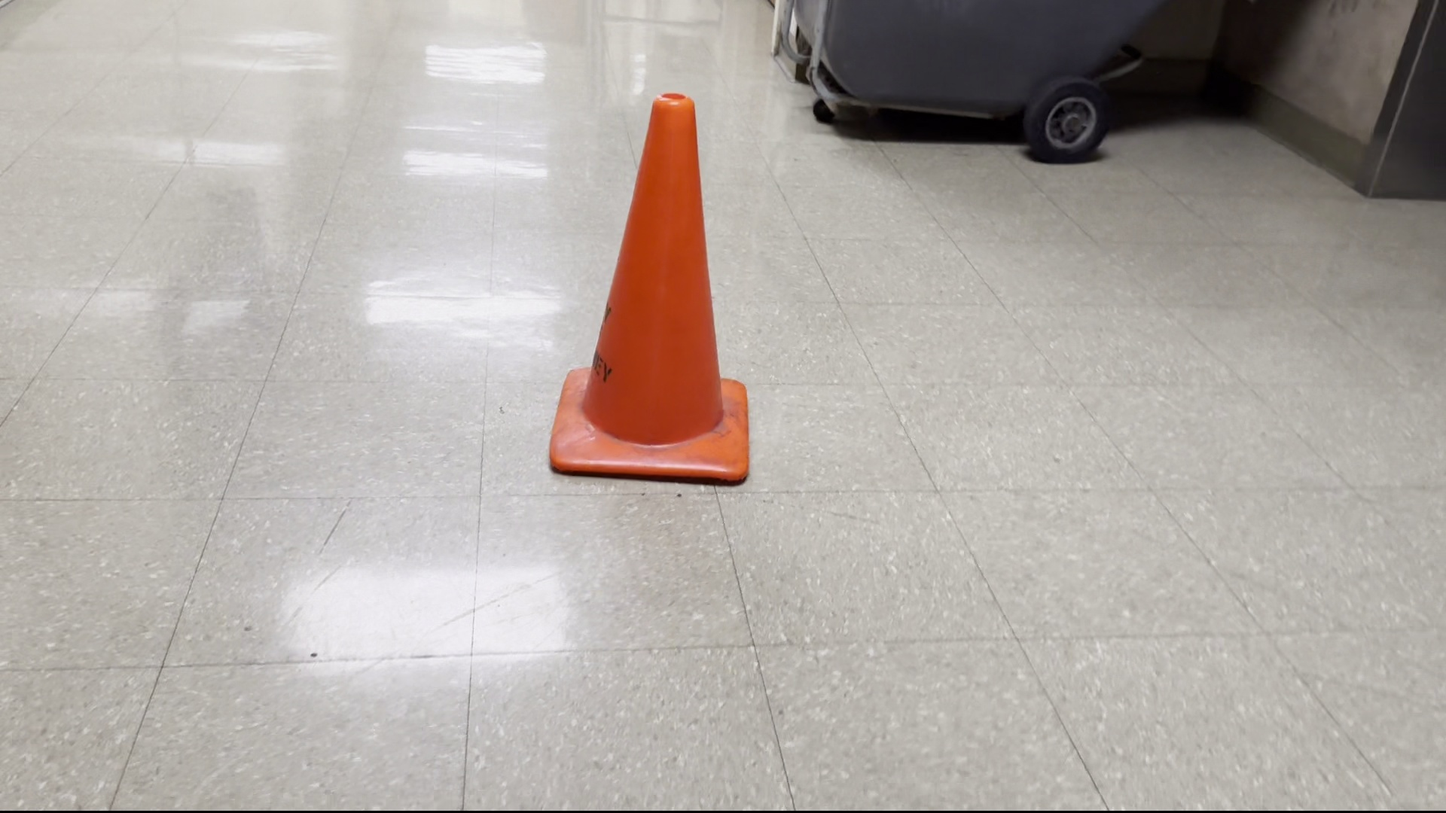traffic_cone: (548, 91, 751, 485)
